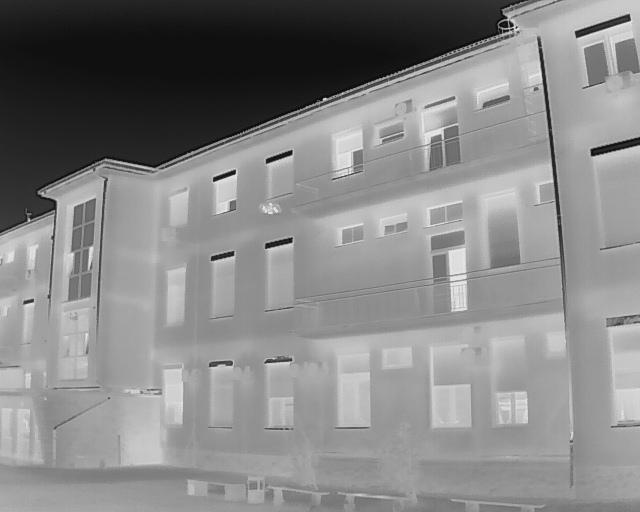drone: (253, 198, 280, 219)
